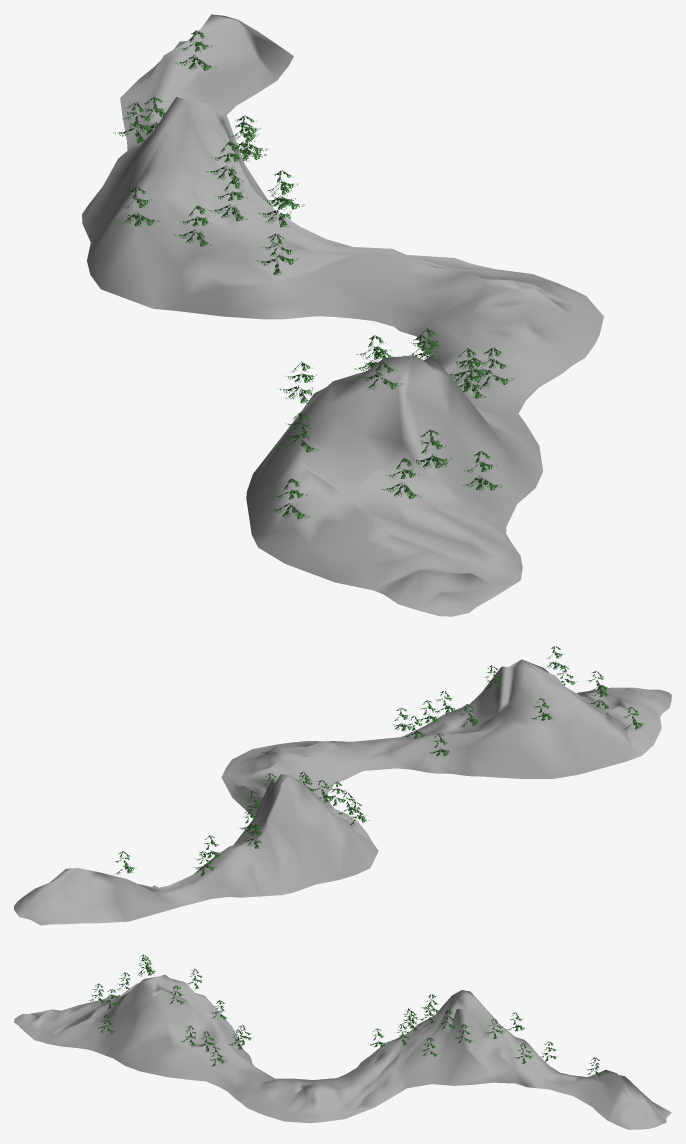
File: snow_island_12.fbx
3 renders of one model, top to bottom at view 1: azimuth 30°, elevation 25°; view 2: azimuth 150°, elevation 25°; view 3: azimuth 270°, elevation 25°, orthographic. The views are drawn at different scales.
Parts seen in each view (by area): view 1: snow_island_12; view 2: snow_island_12; view 3: snow_island_12.
Part boxes in pixels (x1,y1,x2,y2): snow_island_12: (82, 14, 603, 616); snow_island_12: (14, 646, 671, 925); snow_island_12: (14, 954, 671, 1129).
Size of the model in its own units: 0.7073 by 0.2027 by 1.52.
Materials: 2 (1 with a texture image).
